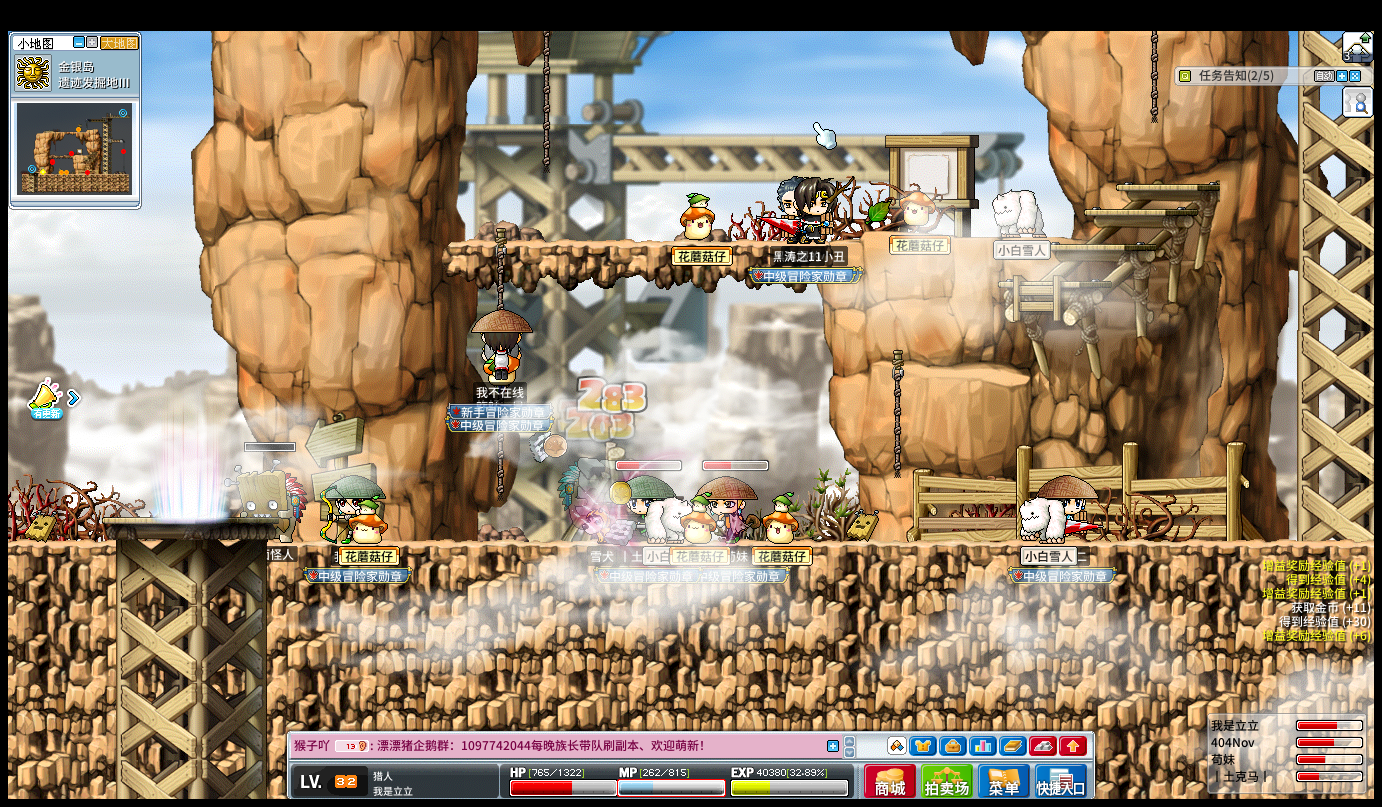floor: (442, 239, 815, 250), (925, 364, 1030, 386), (102, 518, 278, 525), (8, 539, 115, 550), (1078, 207, 1190, 216), (996, 281, 1108, 289), (1051, 243, 1157, 251), (1115, 183, 1218, 190)
monster: (558, 457, 634, 542), (226, 463, 307, 539), (221, 463, 308, 512)
rope: (889, 349, 903, 480), (542, 28, 551, 175), (492, 228, 506, 310), (1148, 31, 1157, 122), (496, 438, 505, 510)
